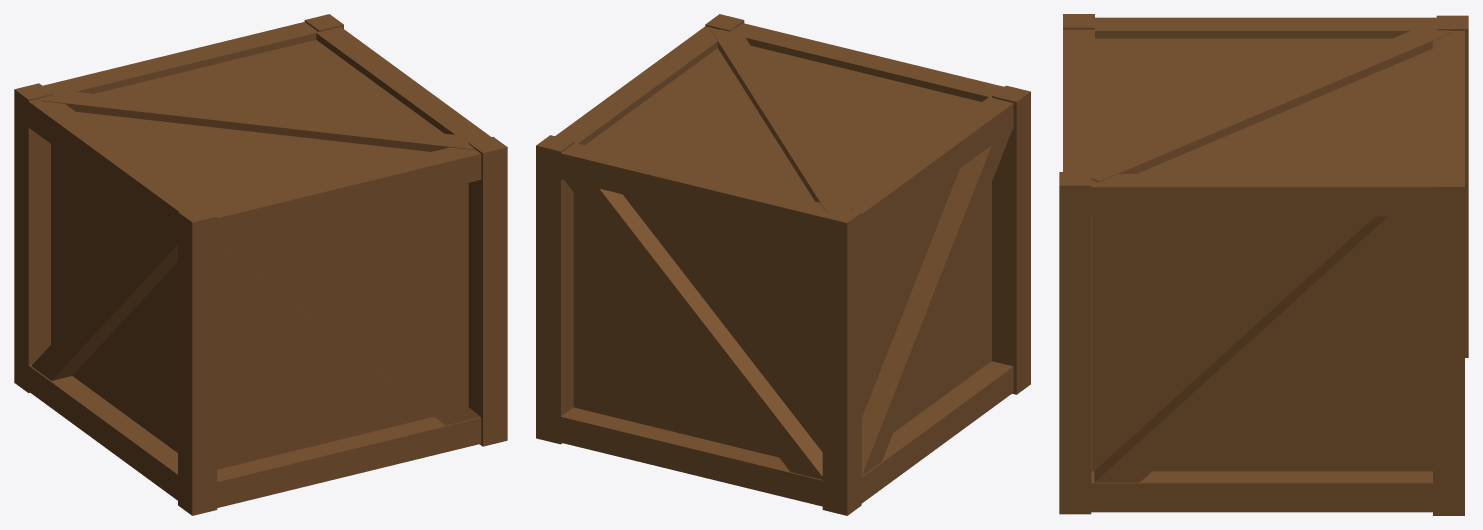
Rendered from crate_1.glb.
The picture shows the model from 3 angles, left to right: view 1: azimuth 30°, elevation 25°; view 2: azimuth 150°, elevation 25°; view 3: azimuth 270°, elevation 25°; orthographic projection. The views are drawn at different scales.
Parts seen in each view (by area): view 1: Box_1; view 2: Box_1; view 3: Box_1.
Part boxes in pixels (x1,y1,x2,y2): Box_1: (14, 14, 507, 515); Box_1: (536, 14, 1030, 515); Box_1: (1059, 14, 1468, 515).
Size of the model in its own units: 0.2188 by 0.1939 by 0.2188.
